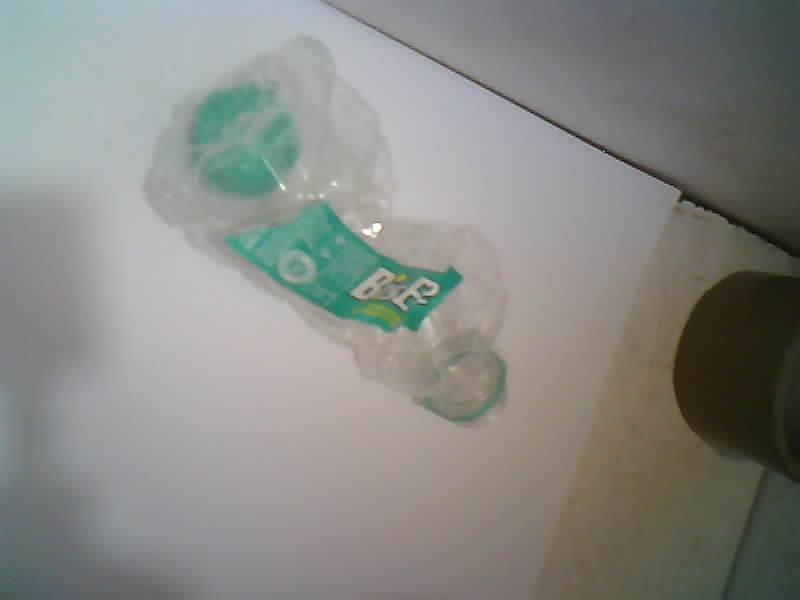non-biodegradable: (146, 37, 506, 425)
